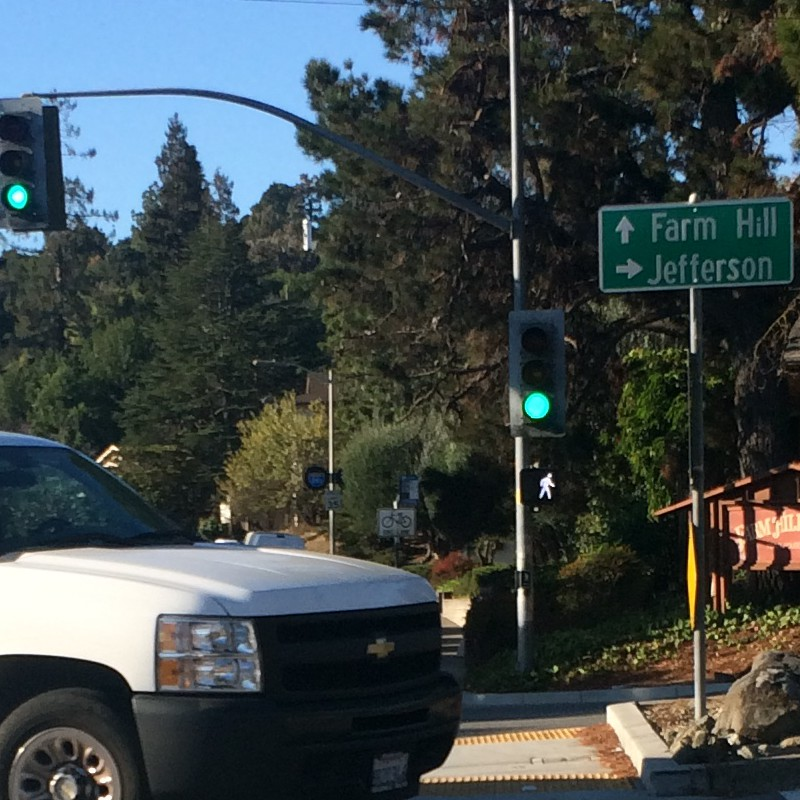go: (519, 468, 572, 510)
